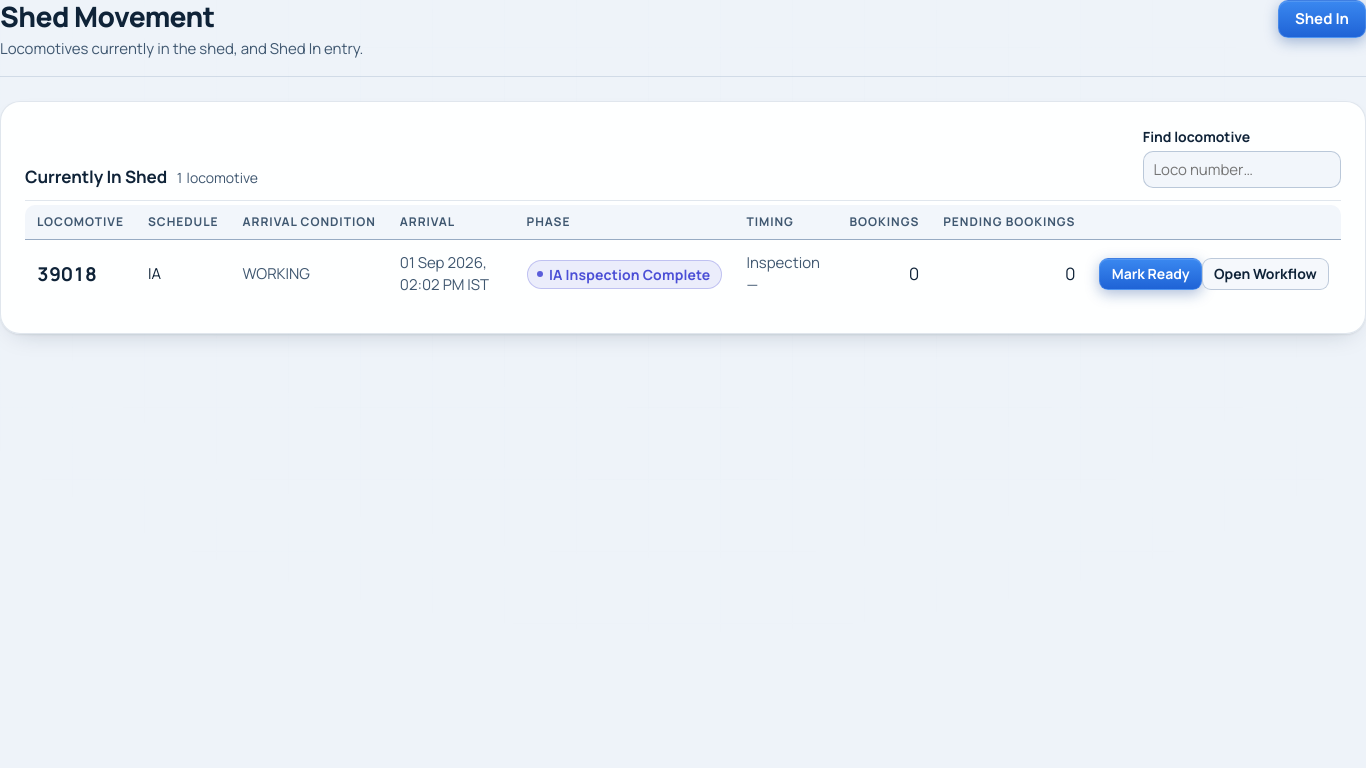
Shed lifecycle phases › Mark Ready advances an inspected Minor visit to Ready
Click the button "Mark Ready": (1151, 274) [1100,258,1202,290]
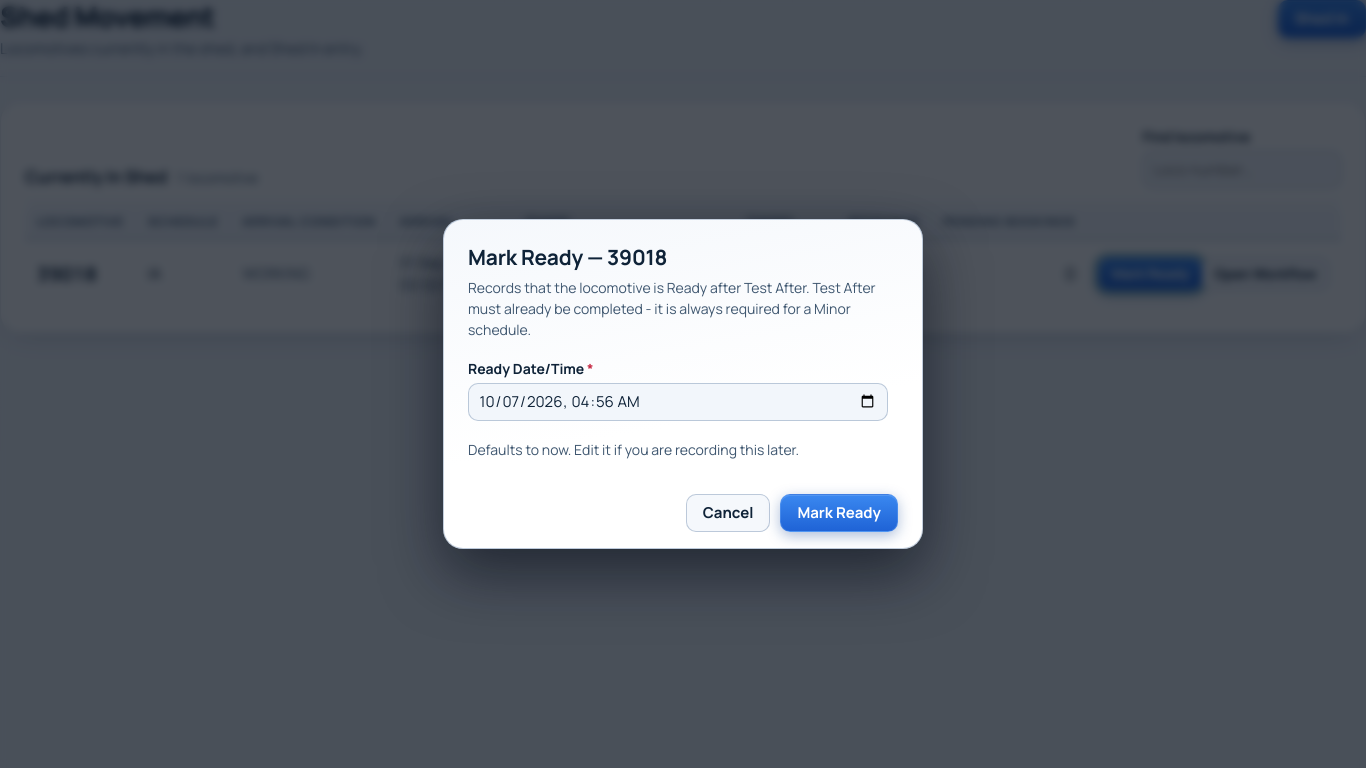
Result: the text "Test After must already be completed" is shown at [468,278,876,339]
Click the button "Mark Ready": (839, 513) [780,494,898,532]
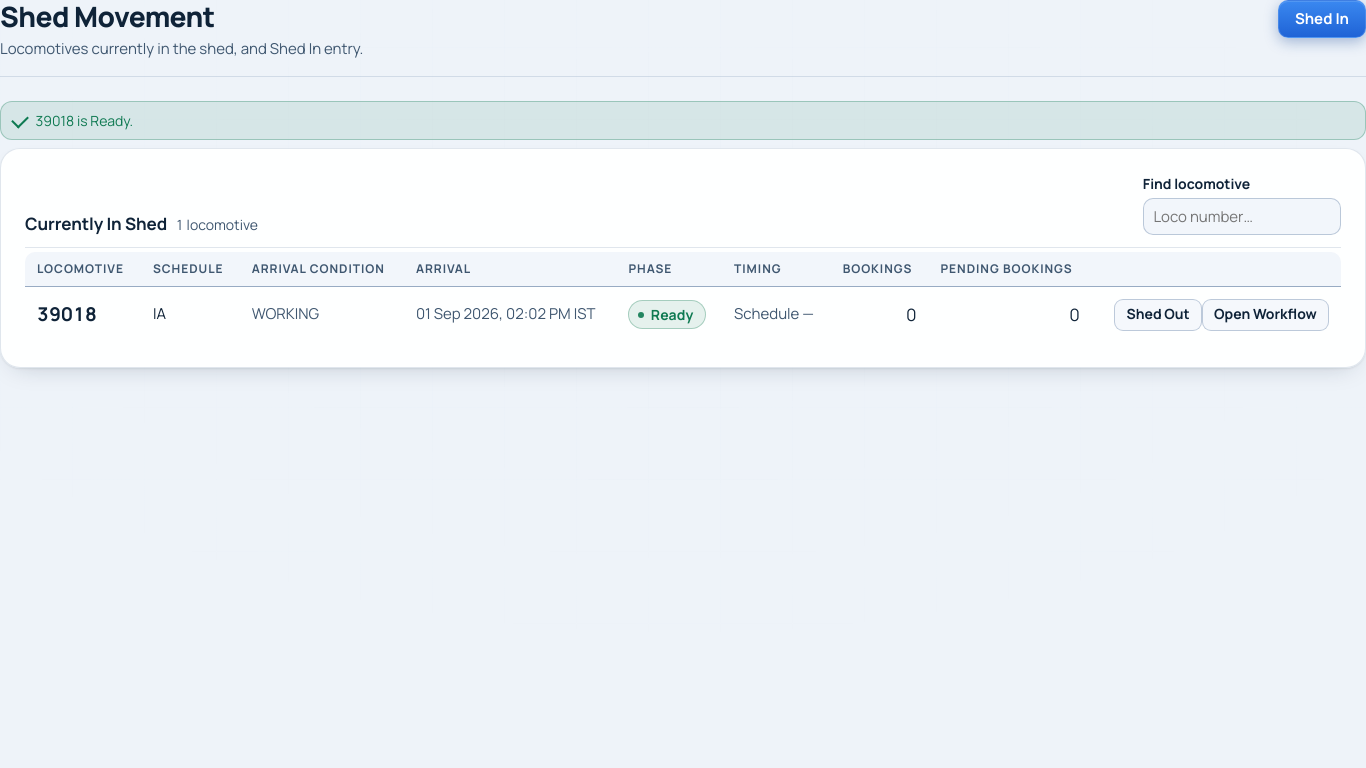
Result: the dialog is gone
Result: the text "Ready" is shown at [628,300,706,329]
Result: the button "Shed Out" is shown at [1114,298,1202,330]
